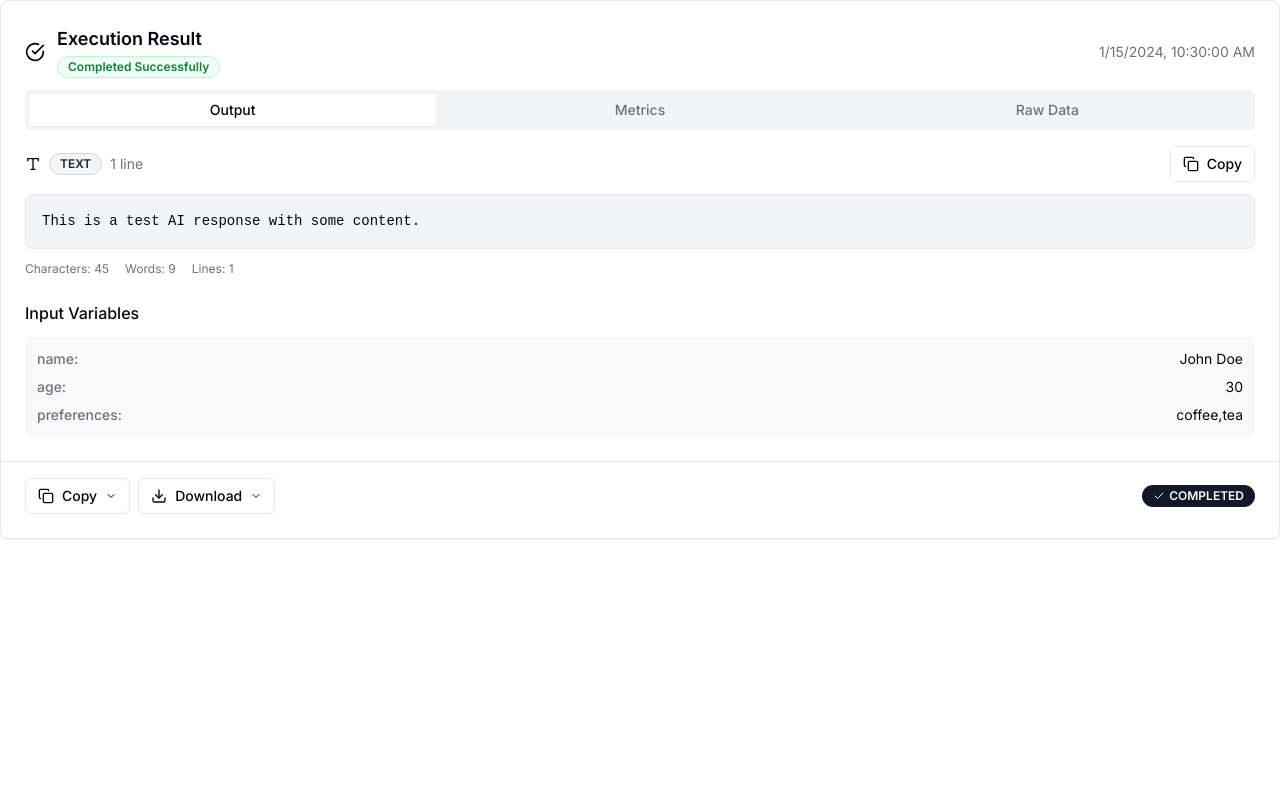
Test: AIResultsViewer › Successful Execution Display › displays raw data correctly in raw tab
// Switch to raw data tab
Click the button "Raw Data" at (1047, 110), box [844,94,1251,126]
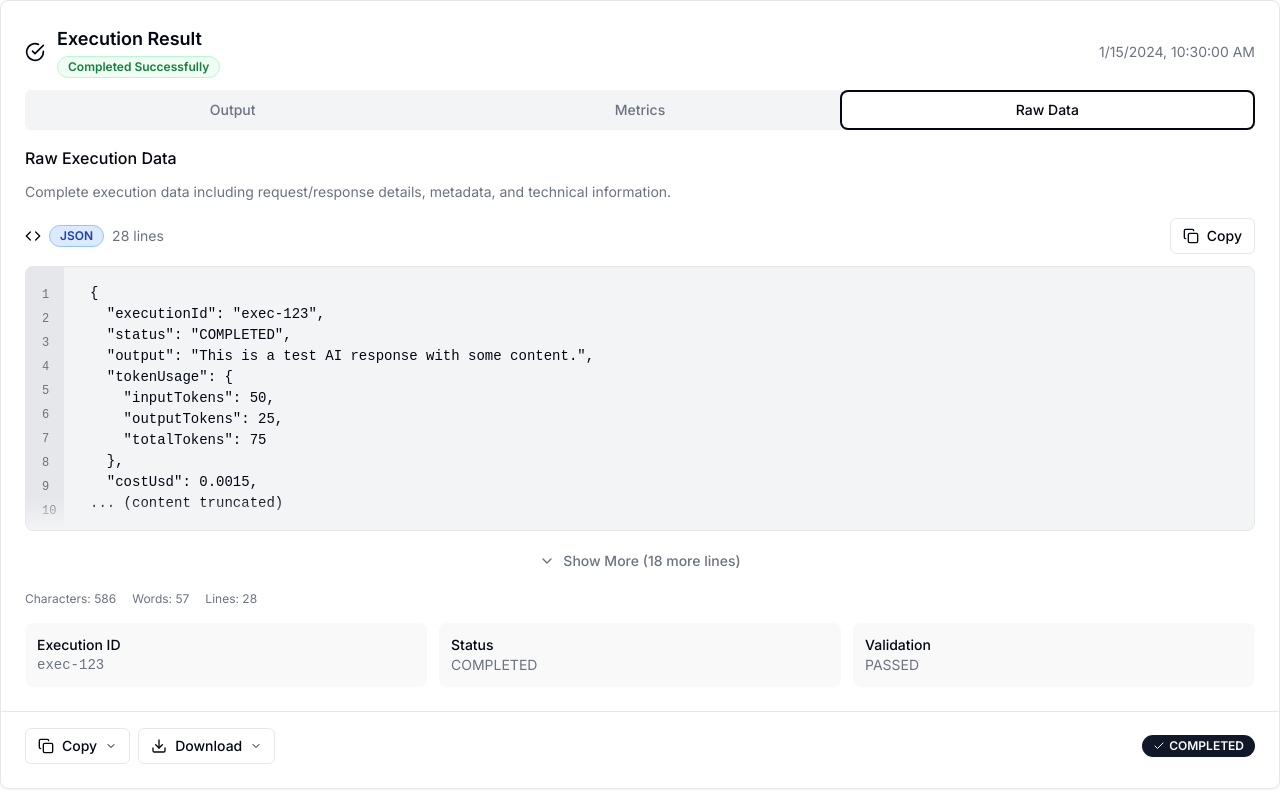
Check: the heading "Raw Execution Data" is shown, box [25,148,177,168]
Check: the text "exec-123" is shown, box [37,657,104,673]
